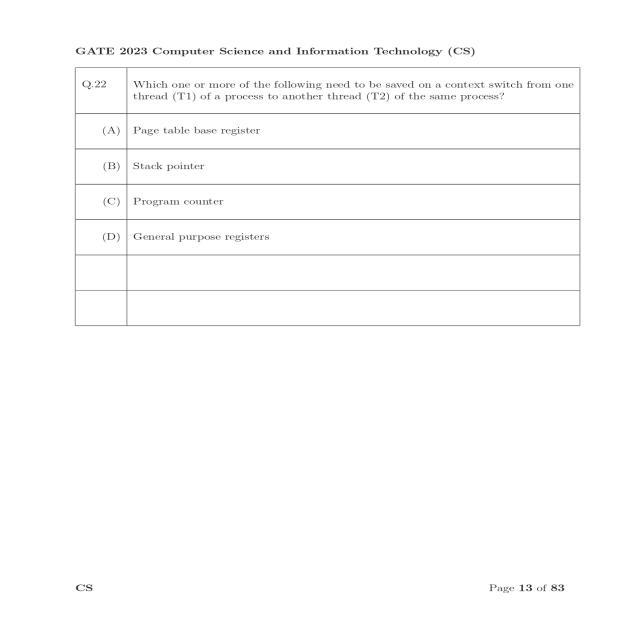Answer_Block: (75, 115, 580, 255)
Instruction: (74, 44, 581, 64)
Question_Answer_Block: (77, 64, 580, 256)
Question_Block: (75, 64, 577, 116)
Question_Paper_Area: (77, 42, 582, 324)
